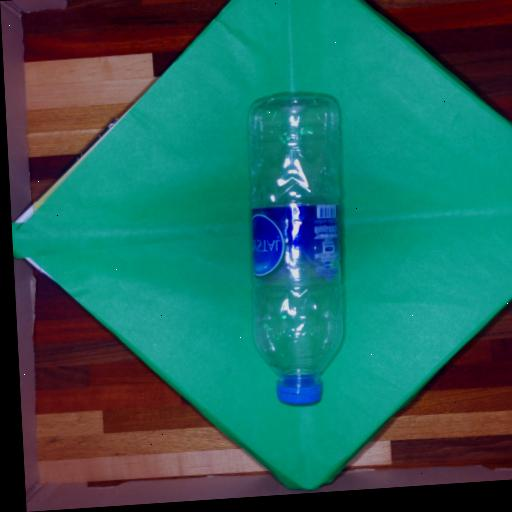bottle: (249, 97, 343, 405)
